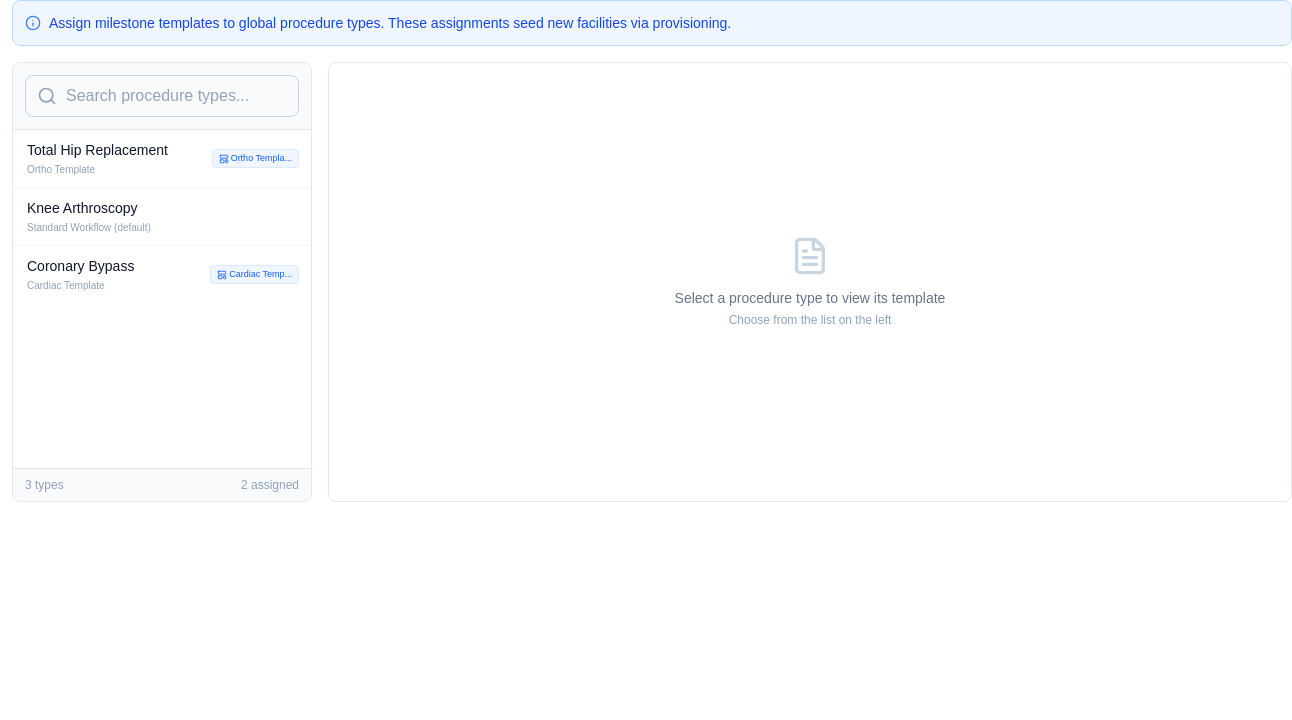
Test case: AdminProcedureTypeAssignment › procedure selection › shows inherited label when selecting procedure without explicit template
Click the text "Knee Arthroscopy" at (82, 208), box [27,200,138,216]
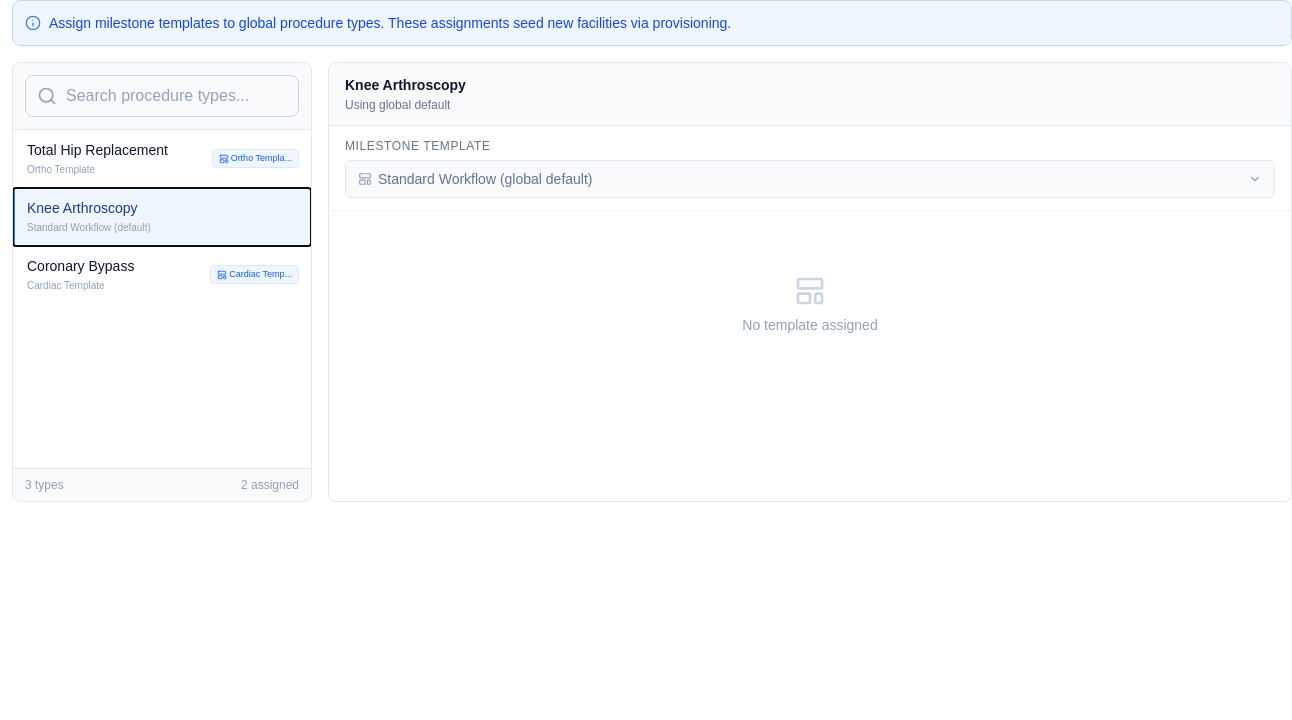
expect the text "Using global default" is shown: met, box [345,98,450,112]
